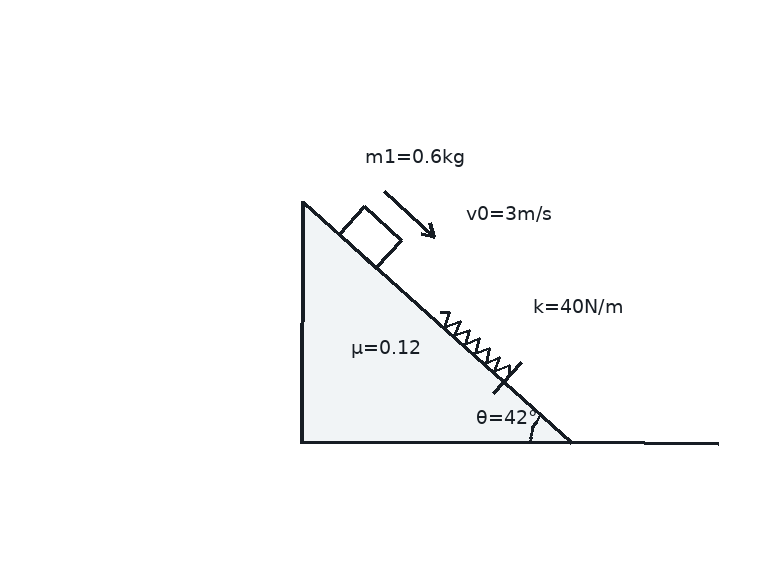block: (336, 204, 403, 270)
ramp: (300, 199, 572, 444)
spring: (438, 310, 511, 377)
